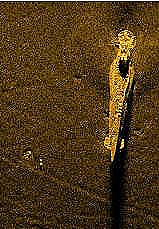ship: (103, 28, 138, 163)
